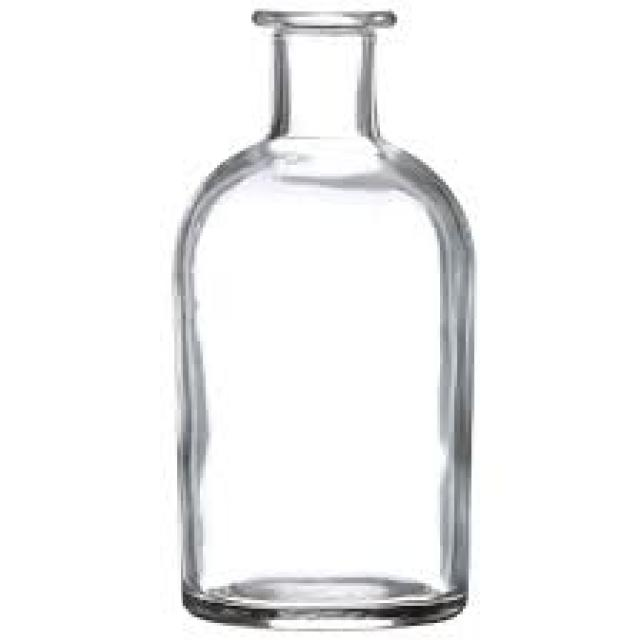bottle: (175, 12, 474, 628)
